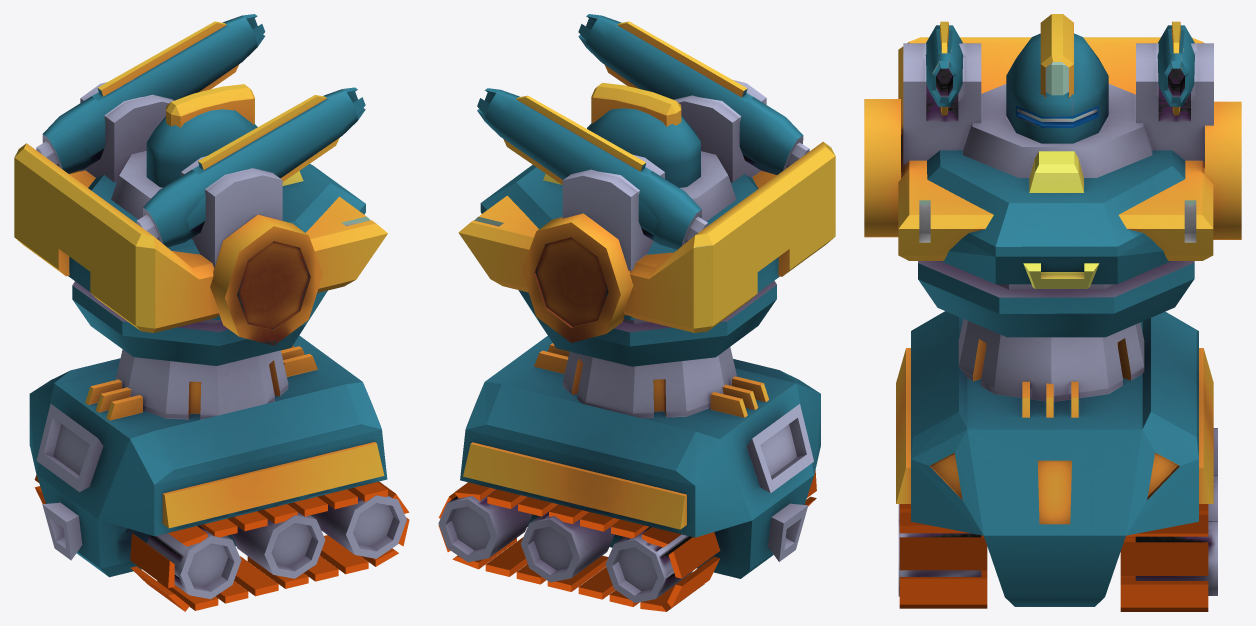
Rendered from Player_Idle13.obj.
The picture shows the model from 3 angles, left to right: view 1: azimuth 30°, elevation 25°; view 2: azimuth 150°, elevation 25°; view 3: azimuth 270°, elevation 25°; orthographic projection. The views are drawn at different scales.
Visible parts, largest first — view 1: Object004, Object008, Object014, Box009, Box017; view 2: Object004, Object008, Object014, Box009, Box016; view 3: Object004, Object008, Box016, Box017, Object014, Box009.
Part boxes in pixels (x1,y1,x2,y2): Object004: (14,82,387,365); Object008: (29,335,387,577); Object014: (36,14,365,247); Box009: (146,495,406,599); Box017: (130,481,409,611); Object004: (458,80,835,366); Object008: (460,336,820,578); Object014: (477,14,809,249); Box009: (438,489,692,602); Box016: (438,482,720,611); Object004: (864,14,1241,337); Object008: (896,311,1213,606); Box016: (1120,504,1208,611); Box017: (899,504,987,608); Object014: (925,21,1194,115); Box009: (898,428,1217,596).
Bounding box in the file's own units: 54.79 × 82.72 × 52.49.
2 materials, 1 textured.
